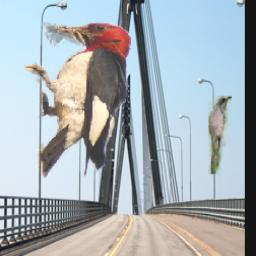Cuckoo: (209, 97, 233, 175)
Woodpecker: (25, 21, 132, 178)
